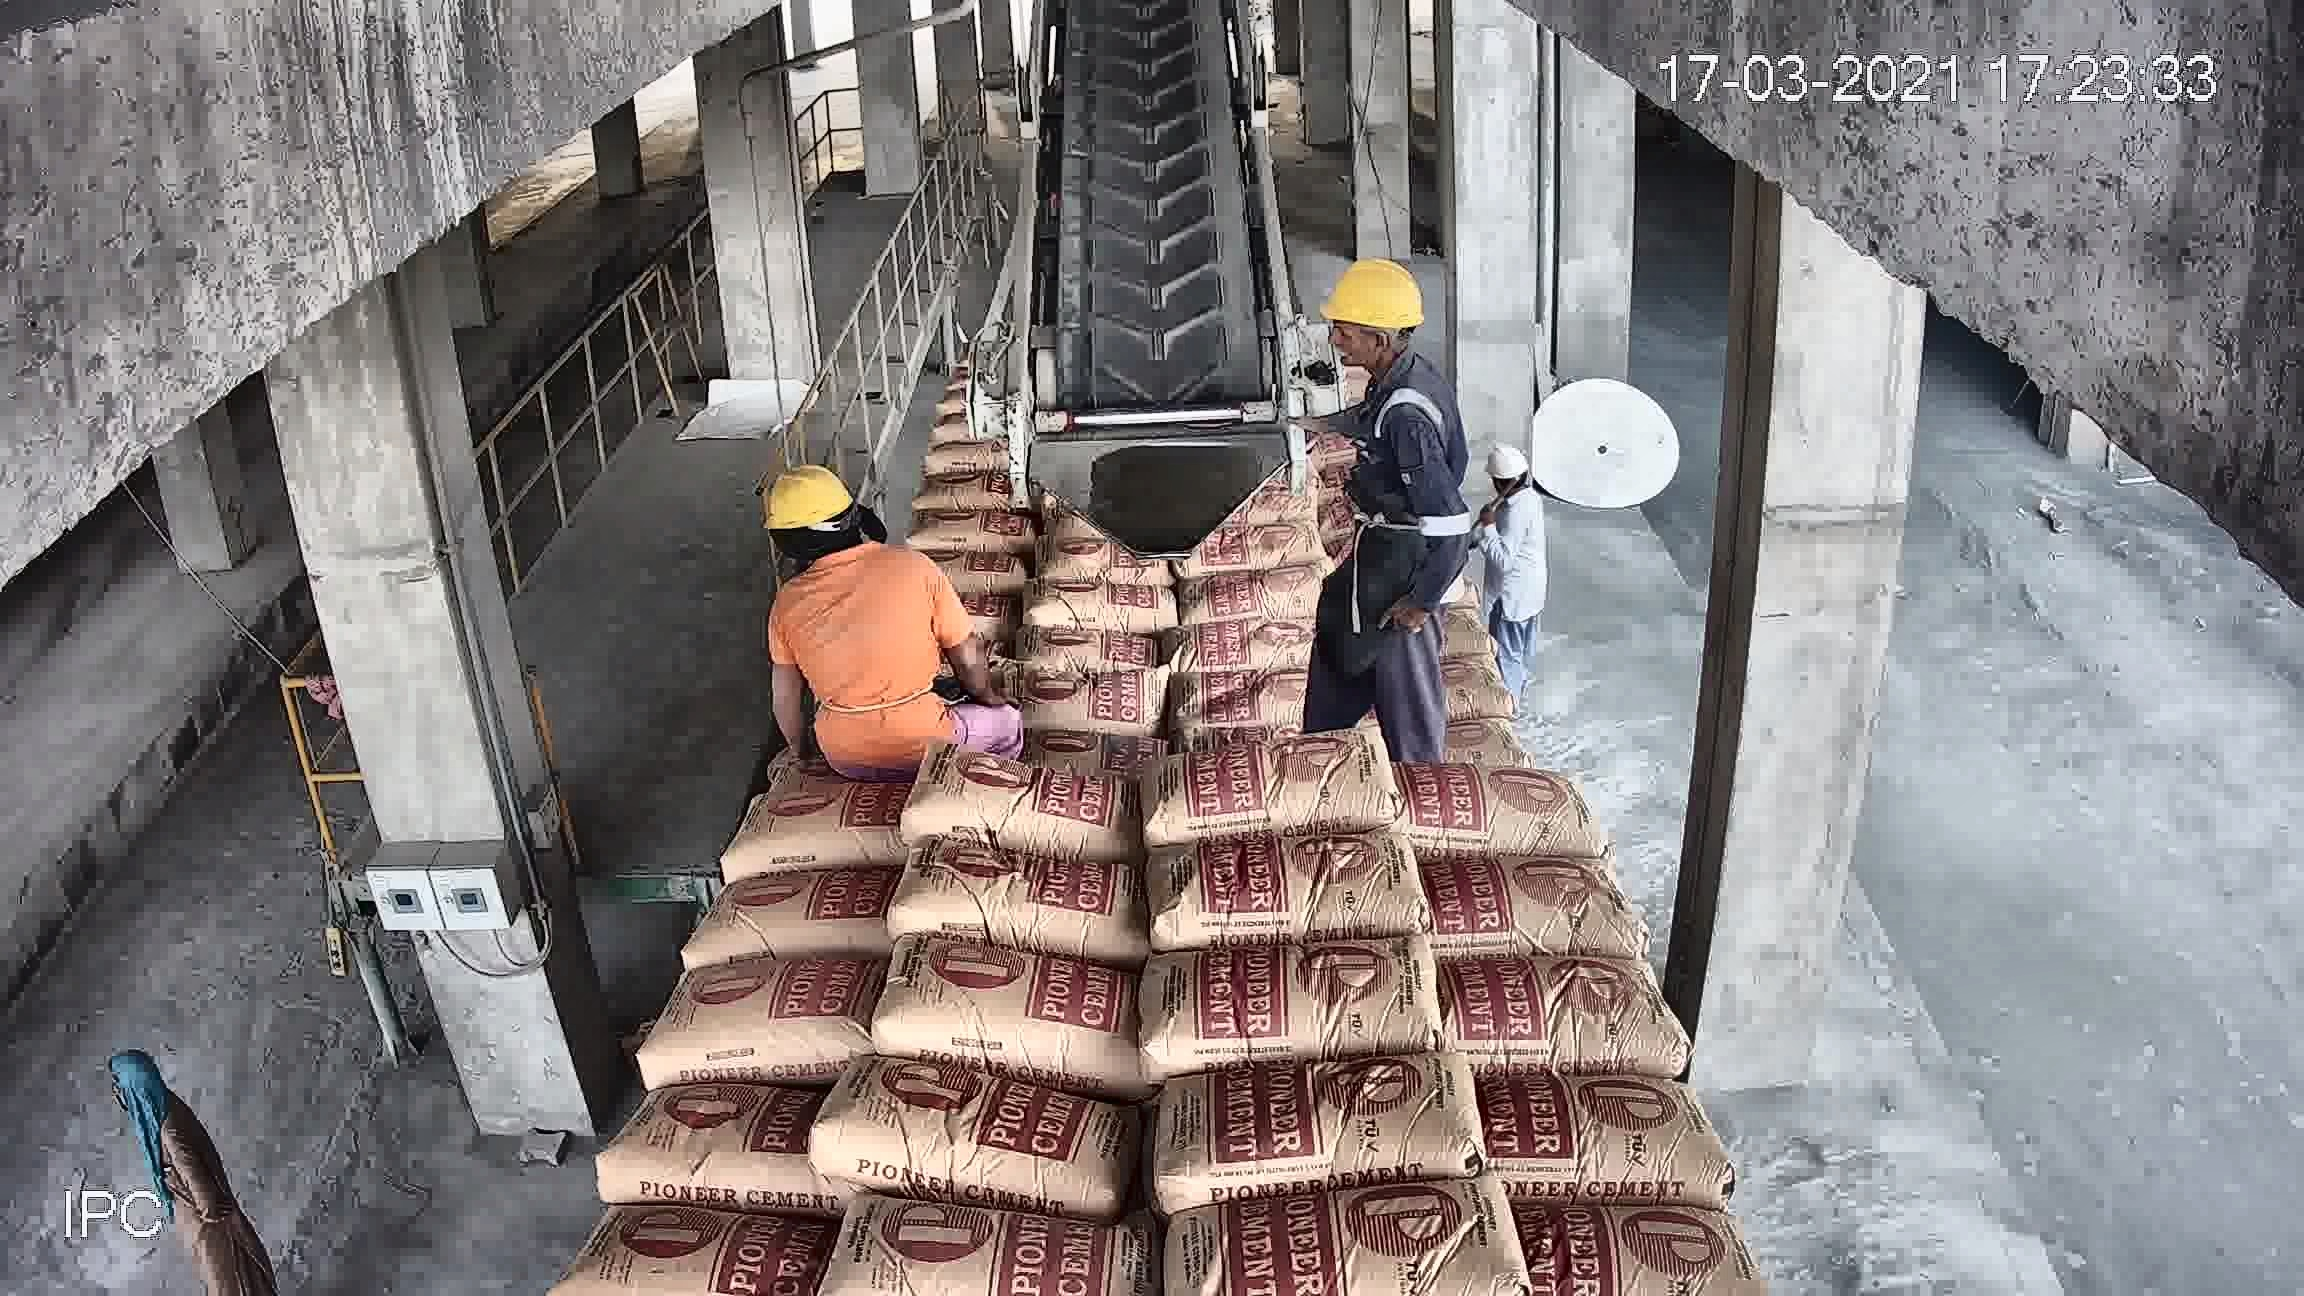bag: (1025, 16, 1280, 380), (1203, 396, 1385, 483), (1090, 97, 1204, 207)
bag_h: (1146, 1163, 1549, 1294), (1128, 1054, 1499, 1185), (1109, 934, 1472, 1060), (1124, 820, 1456, 954), (1440, 1070, 1698, 1234), (883, 923, 1177, 1055), (812, 1070, 1117, 1195), (612, 954, 896, 1071), (864, 847, 1152, 957), (837, 1199, 1154, 1296), (1445, 940, 1695, 1060), (680, 850, 921, 972), (1154, 739, 1408, 850), (696, 783, 907, 902), (1426, 859, 1665, 964), (1505, 1214, 1804, 1296), (1405, 755, 1595, 873), (1157, 668, 1381, 766), (592, 1100, 831, 1190), (907, 774, 1161, 855), (756, 695, 945, 802), (1150, 589, 1380, 676), (1152, 525, 1366, 612), (555, 1214, 818, 1282), (771, 631, 945, 733), (953, 612, 1188, 680), (1396, 692, 1563, 780), (959, 684, 1161, 756), (1374, 627, 1552, 699), (807, 525, 997, 590), (788, 589, 970, 649), (967, 551, 1149, 611), (1359, 565, 1503, 619), (1060, 484, 1195, 533), (1048, 429, 1185, 457), (1385, 476, 1453, 532), (1052, 462, 1169, 494), (1396, 530, 1461, 582)
